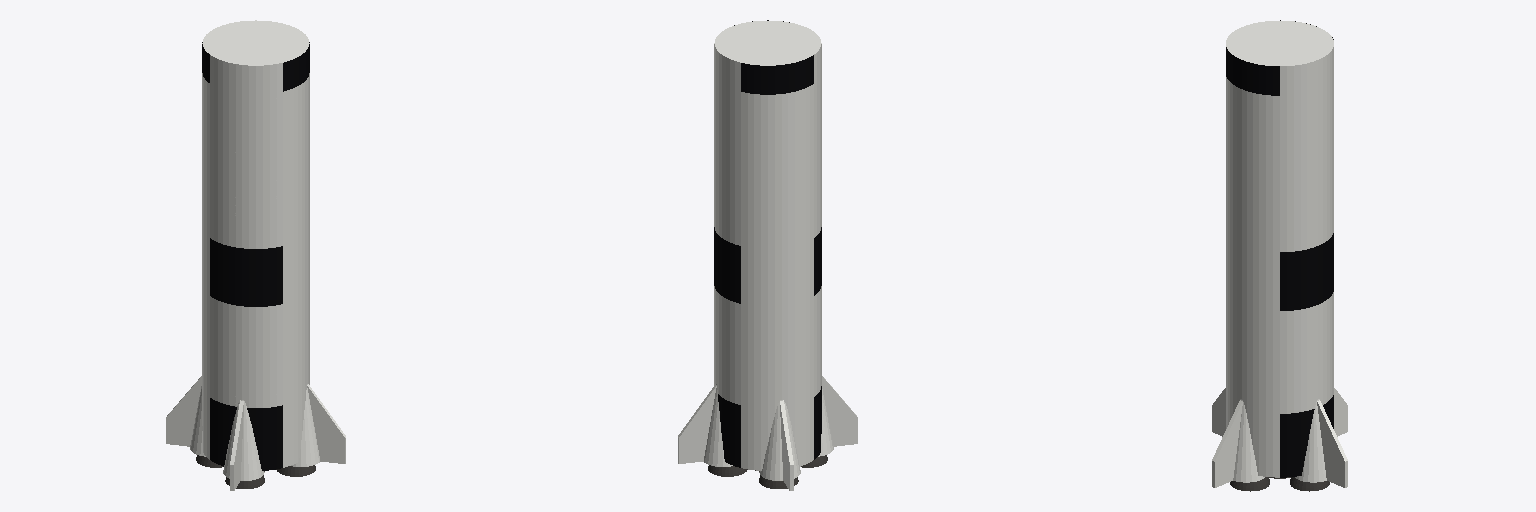
The robot description file, URDF, robot "s_ic":
<?xml version="1.0"?>
<!-- S-IC first stage, five F-1 engines, at scale -->
<robot name="s_ic">
  <link name="base">
    <visual>
      <origin xyz="0 0 0" rpy="0 0 0"/>
      <geometry><mesh filename="meshes/s_ic_white.stl"/></geometry>
      <material name="base_0"><color rgba="0.920 0.920 0.900 1"/></material>
    </visual>
    <visual>
      <origin xyz="0 0 0" rpy="0 0 0"/>
      <geometry><mesh filename="meshes/s_ic_black.stl"/></geometry>
      <material name="base_1"><color rgba="0.080 0.080 0.090 1"/></material>
    </visual>
    <visual>
      <origin xyz="0 0 0" rpy="0 0 0"/>
      <geometry><mesh filename="meshes/s_ic_engines.stl"/></geometry>
      <material name="base_2"><color rgba="0.300 0.290 0.280 1"/></material>
    </visual>
    <inertial><mass value="130000"/><origin xyz="0 0 0"/><inertia ixx="1" ixy="0" ixz="0" iyy="1" iyz="0" izz="1"/></inertial>
  </link>
</robot>

--- What the picture shows (computed from the rendered views, not written in the file) ---
The picture shows the robot from 3 angles, left to right: view 1: azimuth 30°, elevation 25°; view 2: azimuth 150°, elevation 25°; view 3: azimuth 270°, elevation 25°; orthographic projection.
Model s_ic with 1 links and 0 joints (none), rooted at base, posed every joint at zero.
Links seen in each view (by area): view 1: base; view 2: base; view 3: base.
Link boxes in pixels (x1,y1,x2,y2): base: (166,20,345,490); base: (678,20,857,490); base: (1212,20,1347,491).
Size in the robot's own frame: 12.63 by 12.63 by 43.6 metres.
3 mesh visuals loaded from 3 distinct referenced files (3 binary STL).
